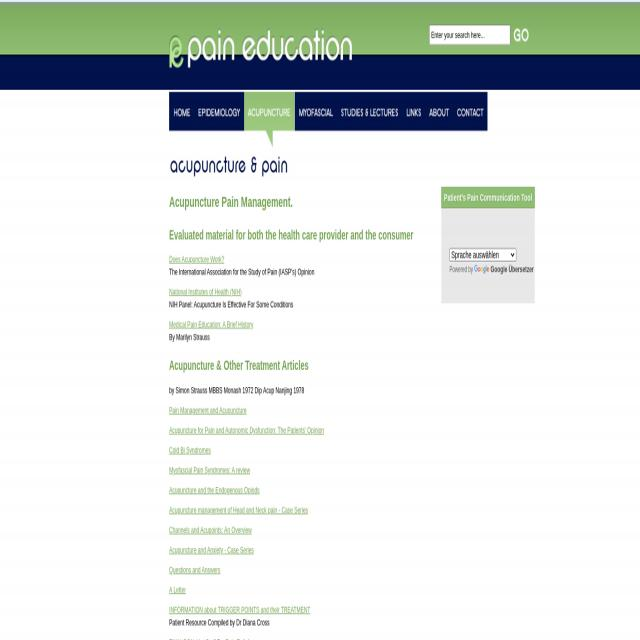button: (169, 26, 352, 65), (337, 91, 401, 131), (244, 89, 296, 130), (441, 184, 535, 206), (195, 89, 244, 131), (294, 89, 337, 131), (452, 92, 488, 132), (169, 89, 195, 131), (424, 92, 451, 130), (400, 93, 424, 129), (511, 25, 532, 45), (474, 262, 490, 272)
field: (430, 25, 510, 45), (450, 248, 517, 262)
